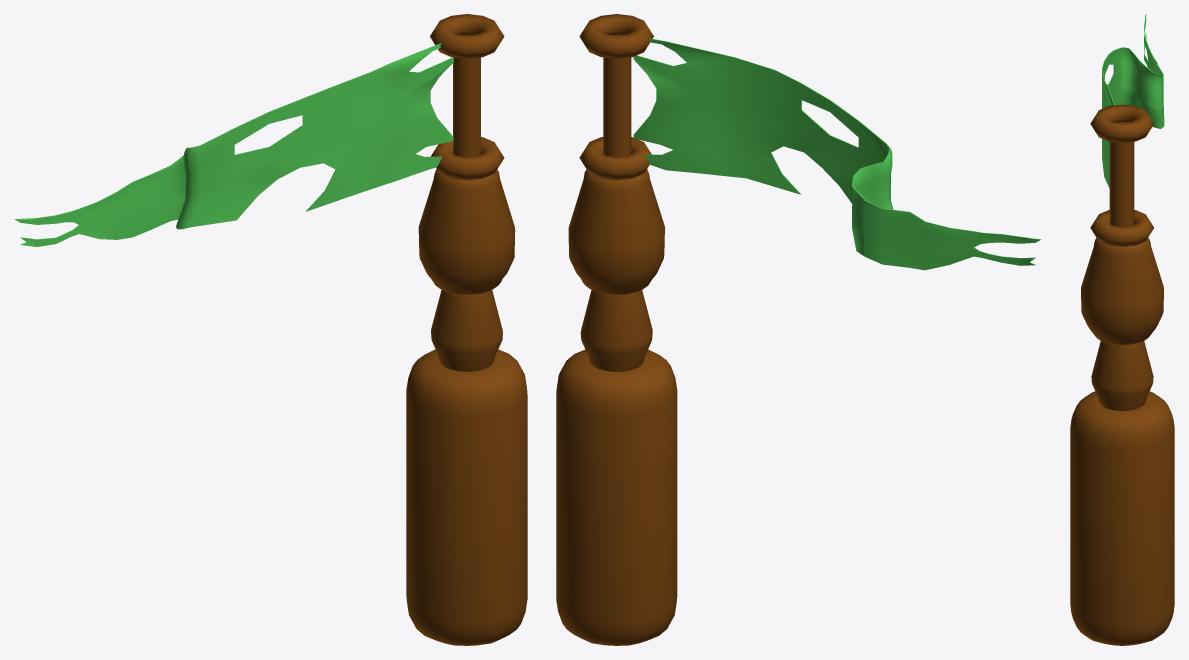
The model's file is Flag.fbx.
The picture shows the model from 3 angles, left to right: view 1: azimuth 30°, elevation 25°; view 2: azimuth 150°, elevation 25°; view 3: azimuth 270°, elevation 25°; orthographic projection. The views are drawn at different scales.
Visible parts, largest first — view 1: flag; view 2: flag; view 3: flag.
Boxes of the visible parts, left/top/right/bottom form: flag: left=14, top=14, right=527, bottom=645; flag: left=556, top=14, right=1041, bottom=645; flag: left=1070, top=14, right=1174, bottom=645.
Bounding box in the file's own units: 318 × 372 × 68.3.
